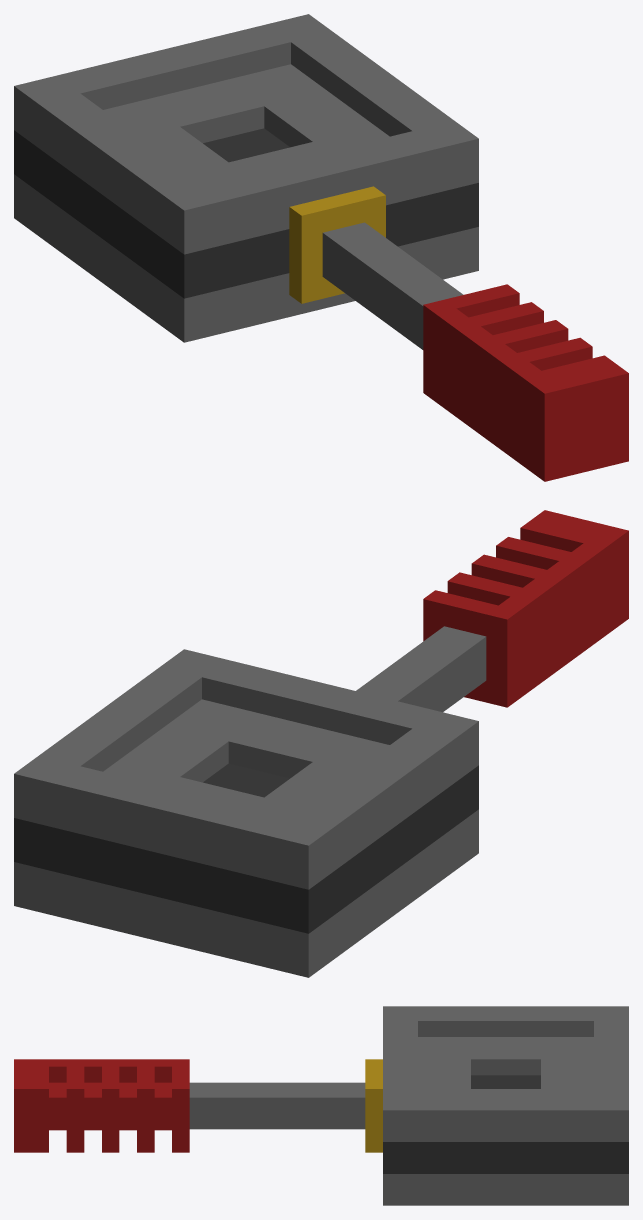
Rendered from pressstation-Handle.obj.
3 renders of one model, top to bottom at view 1: azimuth 30°, elevation 25°; view 2: azimuth 150°, elevation 25°; view 3: azimuth 270°, elevation 25°, orthographic. The views are drawn at different scales.
Bounding box in the file's own units: 14 × 6 × 35.
1 material, 1 textured.
